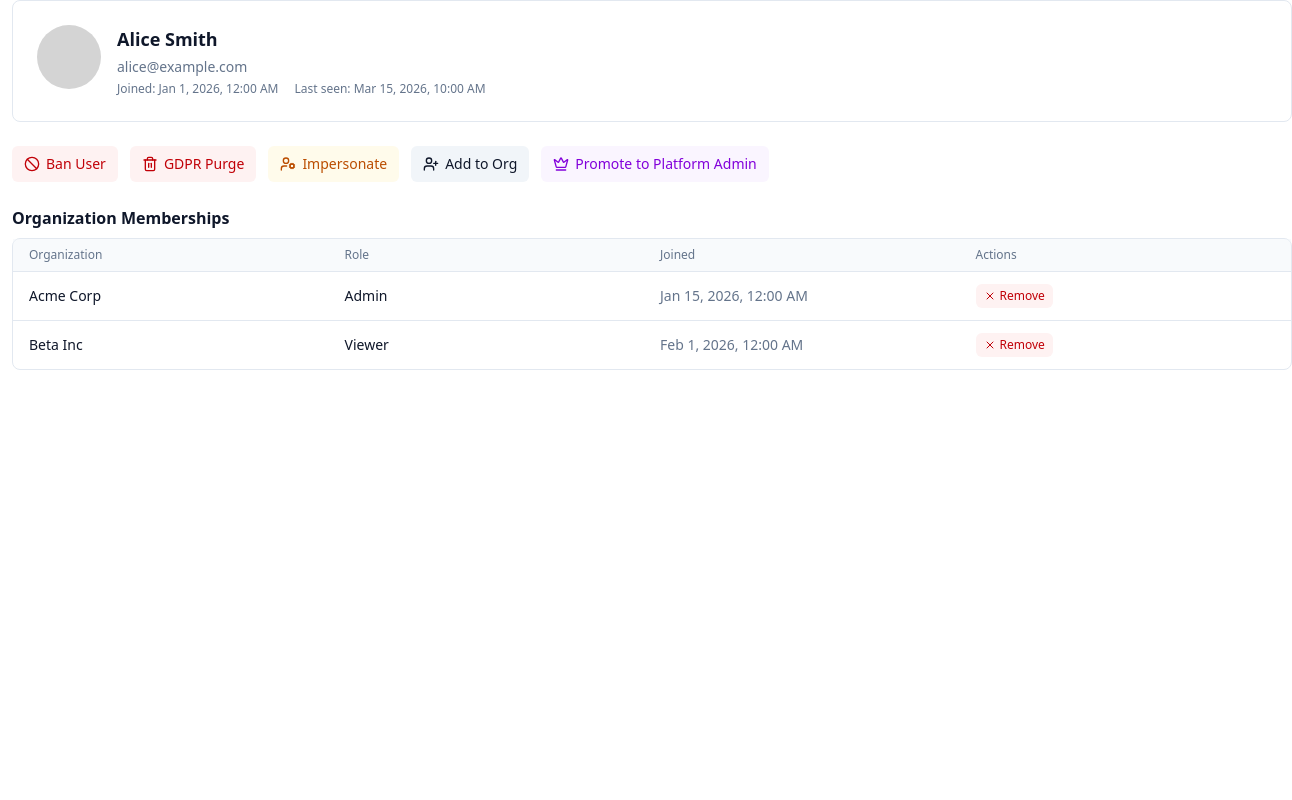
Scenario: UserDetail › opens ban confirmation dialog on ban button click
Click the button with test id "ban-toggle-btn".
click(65, 164)  # box 12,146 -> 118,182
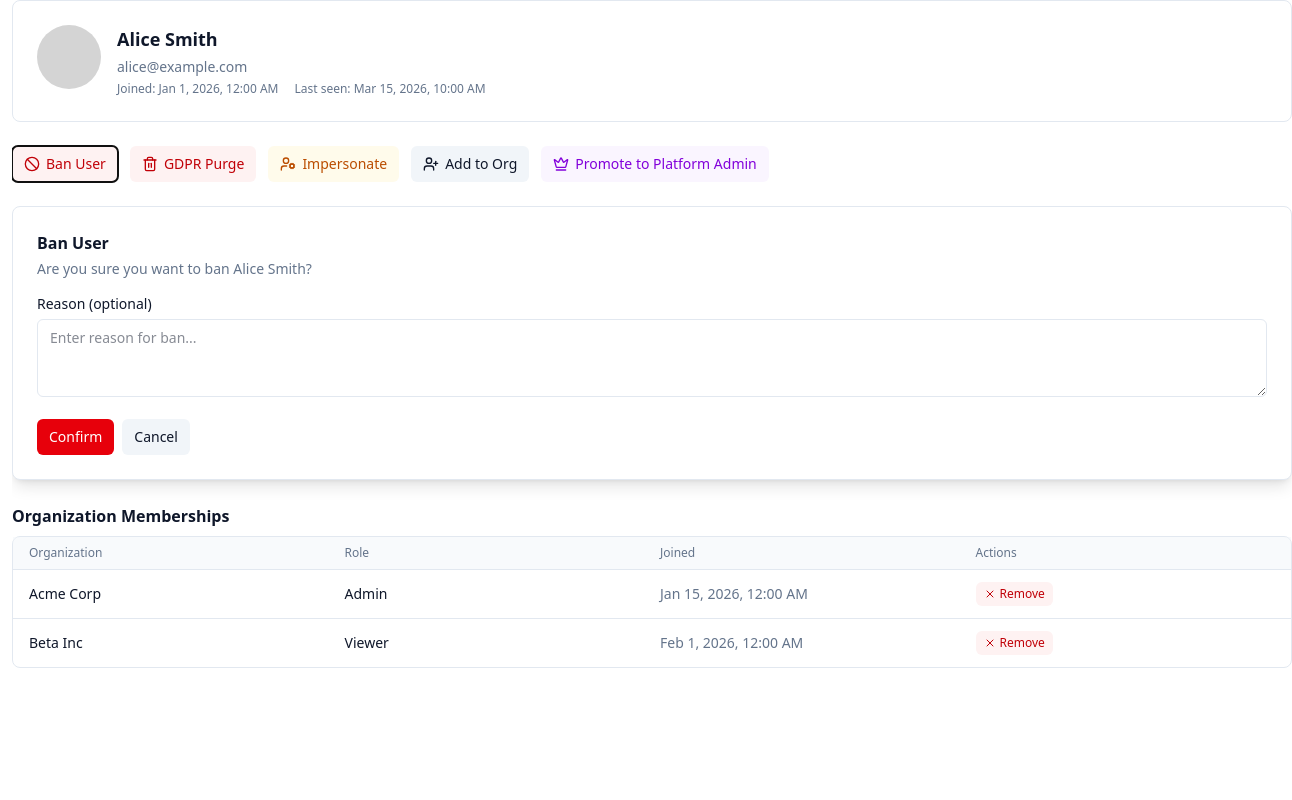
Expected: the element with test id "ban-confirm-dialog" is shown, 12,206 -> 1291,480
